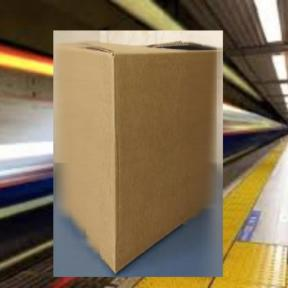box: (51, 27, 226, 281)
